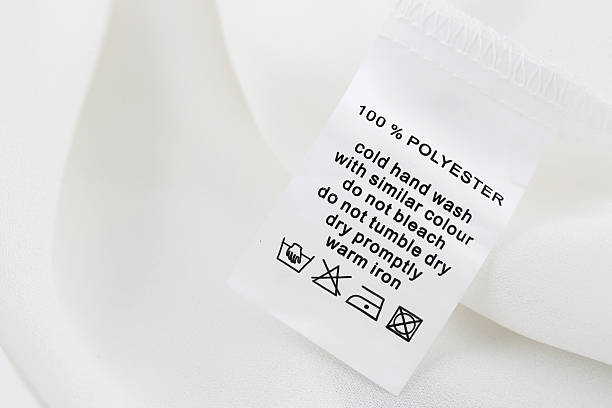ER_hand_wash: (273, 233, 316, 275)
ER_iron_low_temp: (345, 281, 386, 323)
ER_no_bleach: (311, 258, 348, 298)
ER_no_tumble_dry: (384, 304, 426, 346)
